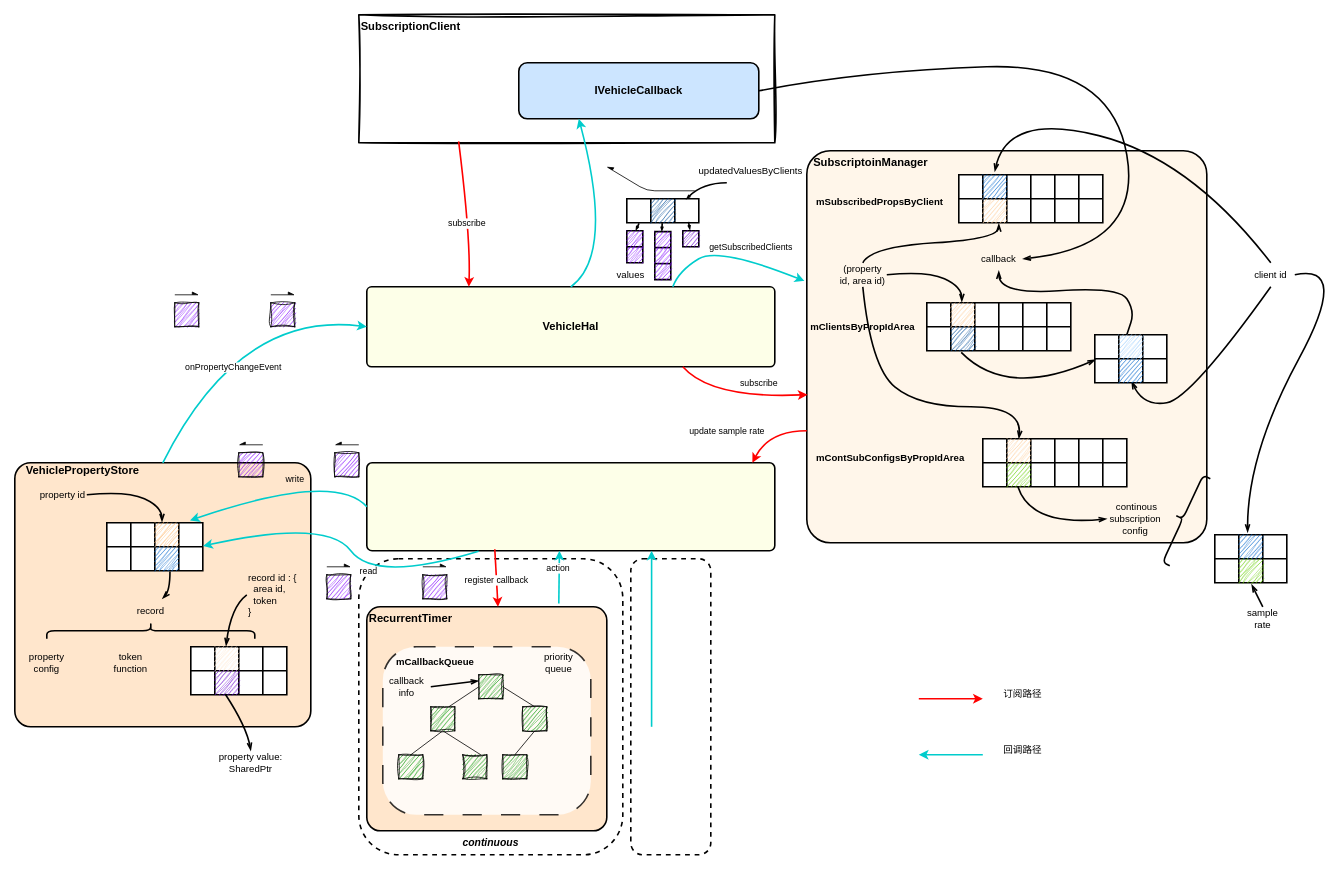
Some shapes in this 1338 by 869 pixel diagram are drawn without their labels. Here are the shapes that lost their labels. From the top down, the box of each, then its label:
(366, 462, 775, 551): VehicleHardware
(630, 558, 711, 855): onchange
